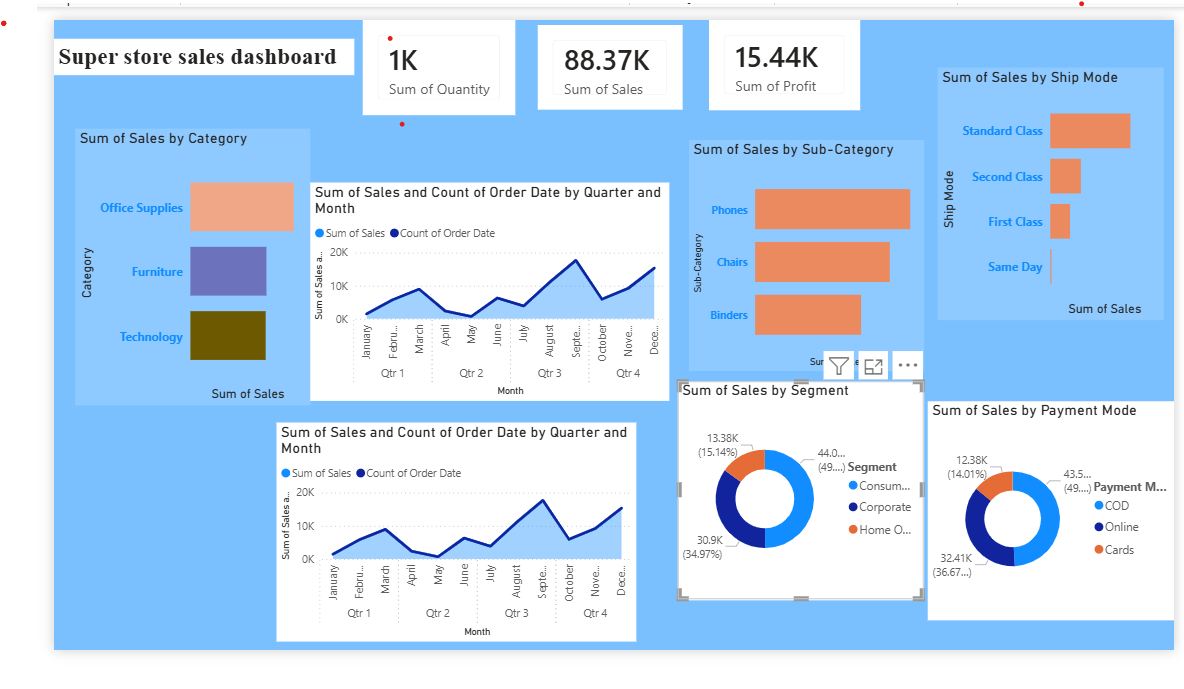

The dashboard page shown, as its layout file describes it:
{"tool":"powerbi","page":{"name":"Page 1","canvas":[1280,720],"ordinal":0},"visuals":[{"type":"clusteredBarChart","fields":{"Category":["Sheet1.Category"],"Y":["Sum(Sheet1.Sales)"]},"box":[24.3,124.3,268.6,315.7],"z":0},{"type":"clusteredBarChart","fields":{"Category":["Sheet1.Sub-Category","Sheet1.Category"],"Y":["Sum(Sheet1.Sales)"]},"box":[725.7,137.1,268.6,264.3],"z":1000},{"type":"clusteredBarChart","fields":{"Category":["Sheet1.Ship Mode","Sheet1.Sub-Category","Sheet1.Category"],"Y":["Sum(Sheet1.Sales)"]},"box":[1010,54.3,258.6,288.6],"z":2000},{"type":"stackedAreaChart","fields":{"Category":["Sheet1.Order Date.Variation.Date Hierarchy.Quarter","Sheet1.Order Date.Variation.Date Hierarchy.Month","Sheet1.Order Date.Variation.Date Hierarchy.Day"],"Y":["Sum(Sheet1.Sales)","CountNonNull(Sheet1.Order Date)"]},"box":[292.3,185.2,410.3,249.7],"z":3000},{"type":"stackedAreaChart","fields":{"Category":["Sheet1.Order Date.Variation.Date Hierarchy.Quarter","Sheet1.Order Date.Variation.Date Hierarchy.Month","Sheet1.Order Date.Variation.Date Hierarchy.Day"],"Y":["Sum(Sheet1.Sales)","CountNonNull(Sheet1.Order Date)"]},"box":[254.3,460,411.4,250],"z":4000},{"type":"donutChart","fields":{"Category":["Sheet1.Segment"],"Y":["Sum(Sheet1.Sales)"]},"box":[712.9,412.9,281.4,250],"z":5000},{"type":"donutChart","fields":{"Category":["Sheet1.Payment Mode"],"Y":["Sum(Sheet1.Sales)"]},"box":[998.6,435.7,281.4,250],"z":6000},{"type":"textbox","box":[0,21.4,342.9,41.4],"z":8000},{"type":"cardVisual","fields":{"Data":["Sum(Sheet1.Sales)"]},"box":[552.9,5.7,165.7,97.1],"z":9000},{"type":"cardVisual","fields":{"Data":["Sum(Sheet1.Profit)"]},"box":[748.6,0,172.9,102.9],"z":10000},{"type":"cardVisual","fields":{"Data":["Sum(Sheet1.Quantity)"]},"box":[352.9,0,174.3,108.6],"z":11000}]}

Visuals, with their boxes on the page's 1280x720 design canvas (x1, y1, x2, y2). These are canvas units, not pixel positions in the 1184x689 screenshot, which may show the page scaled, cropped or inside an application window:
clusteredBarChart - Sheet1.Category x Sum(Sheet1.Sales): <region>24, 124, 293, 440</region>
clusteredBarChart - Sheet1.Sub-Category x Sheet1.Category: <region>726, 137, 994, 401</region>
clusteredBarChart - Sheet1.Ship Mode x Sheet1.Sub-Category: <region>1010, 54, 1269, 343</region>
stackedAreaChart - Sheet1.Order Date.Variation.Date Hierarchy.Quarter x Sheet1.Order Date.Variation.Date Hierarchy.Month: <region>292, 185, 703, 435</region>
stackedAreaChart - Sheet1.Order Date.Variation.Date Hierarchy.Quarter x Sheet1.Order Date.Variation.Date Hierarchy.Month: <region>254, 460, 666, 710</region>
donutChart - Sheet1.Segment x Sum(Sheet1.Sales): <region>713, 413, 994, 663</region>
donutChart - Sheet1.Payment Mode x Sum(Sheet1.Sales): <region>999, 436, 1280, 686</region>
textbox: <region>0, 21, 343, 63</region>
cardVisual - Sum(Sheet1.Sales): <region>553, 6, 719, 103</region>
cardVisual - Sum(Sheet1.Profit): <region>749, 0, 922, 103</region>
cardVisual - Sum(Sheet1.Quantity): <region>353, 0, 527, 109</region>
